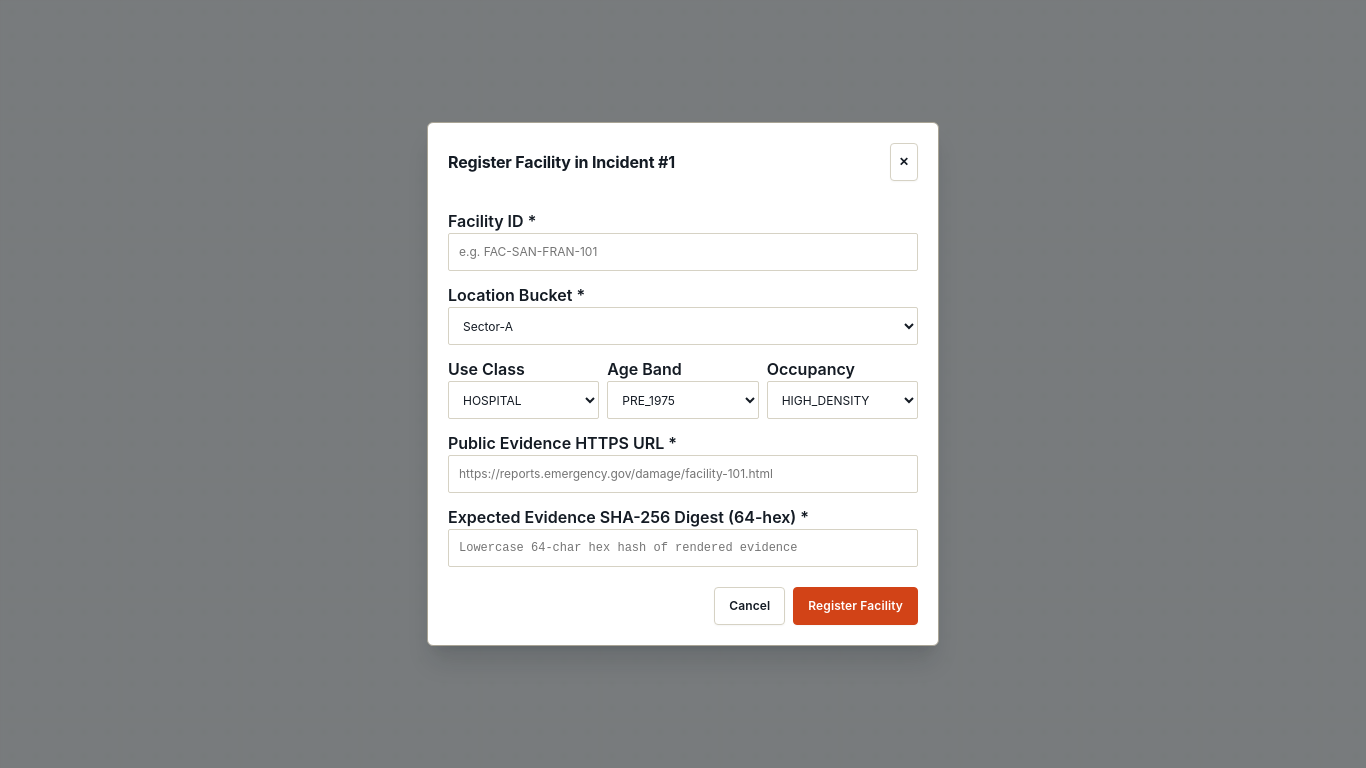
Test: UI Components, Role Gating, and Modal Validation › RegisterFacilityModal validates required fields
The width and height of the screenshot is (1366, 768).
Click the button "Register Facility" at (856, 606), box [793,587,918,625]
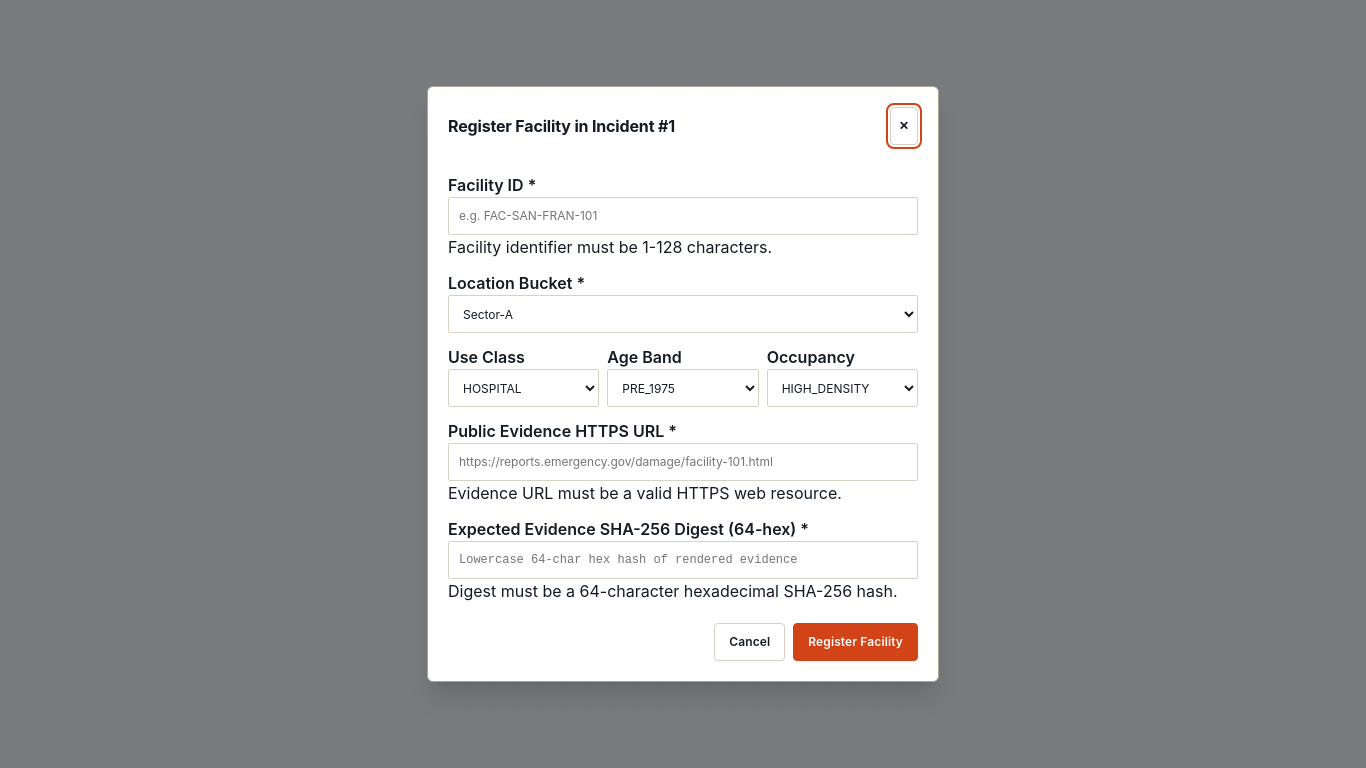
Expected: the text "Facility identifier must be 1-128 characters." is shown, [448,237,772,257]
Expected: the text "Evidence URL must be a valid HTTPS web resource." is shown, [448,483,842,503]
Expected: the text "Digest must be a 64-character hexadecimal SHA-256 hash." is shown, [448,581,898,601]
